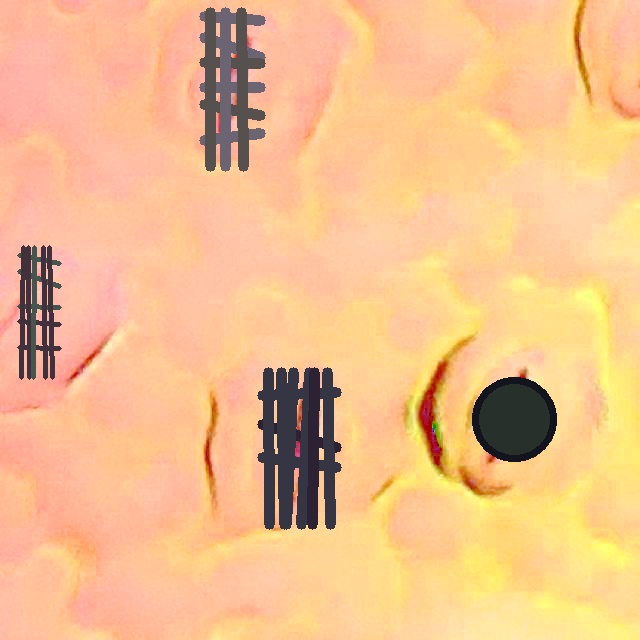close: (17, 245, 61, 379)
open: (258, 367, 340, 529), (200, 8, 265, 170), (472, 377, 556, 462)
